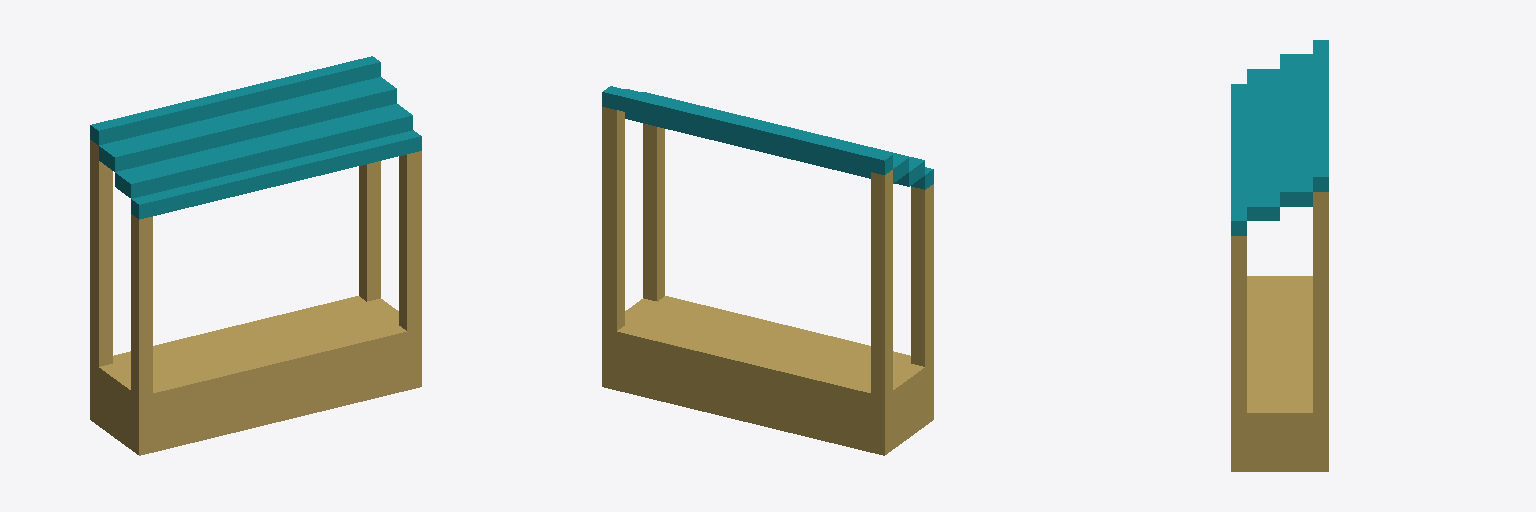
The picture shows the model from 3 angles: view 1: azimuth 30°, elevation 25°; view 2: azimuth 150°, elevation 25°; view 3: azimuth 270°, elevation 25°; orthographic projection.
Visible parts, largest first — view 1: object 1; view 2: object 1; view 3: object 1.
Boxes of the visible parts, x1,y1,x2,y2 form: object 1: [90, 56, 421, 455]; object 1: [602, 86, 933, 455]; object 1: [1231, 40, 1328, 471].
Bounding box in the file's own units: 2 × 2 × 0.6.
1 materials, 1 textured.